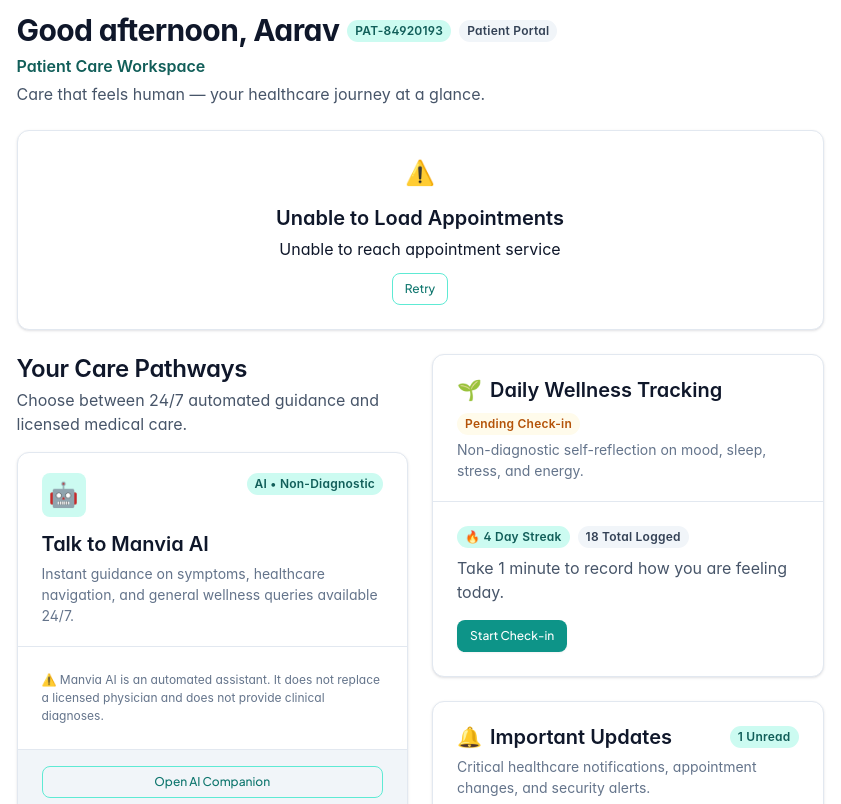
Test case: MANVIA Patient Home / Care Journey Dashboard Component › displays localized retry card when appointment endpoint fails
The image size is (841, 804).
expect the element with test id "appointment-error-card" is shown: met, box x1=16 y1=130 x2=824 y2=330
expect the text "Unable to reach appointment service" is shown: met, box x1=276 y1=236 x2=564 y2=260
Step 1. Click the button with test id "appointment-retry-button" → (420, 288), box x1=392 y1=272 x2=448 y2=304
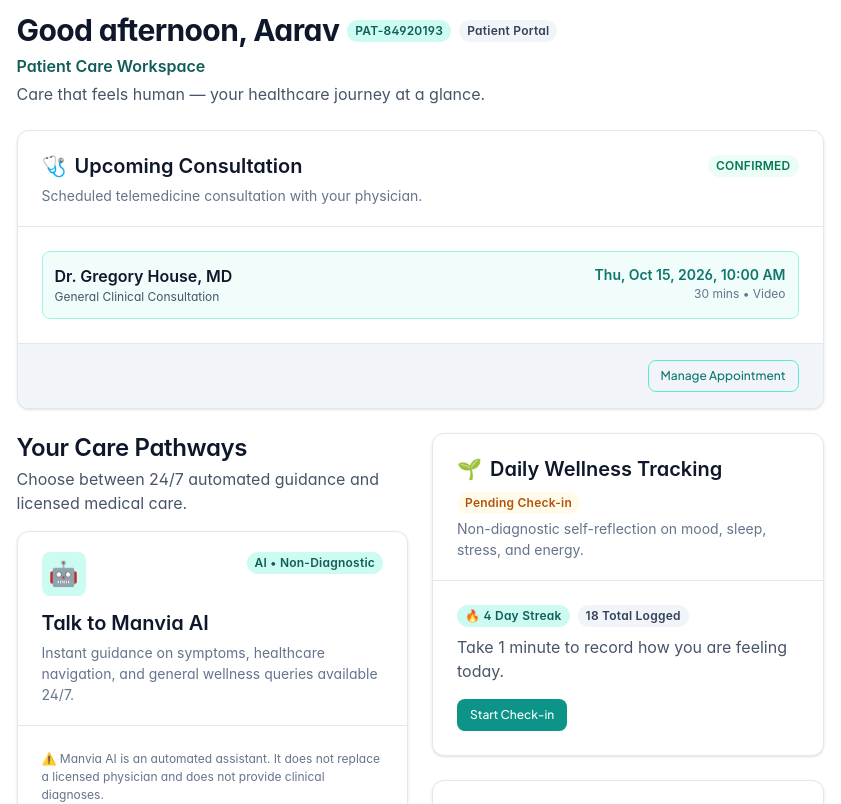
expect the element with test id "upcoming-appointment-card" is shown: met, box x1=16 y1=130 x2=824 y2=408
